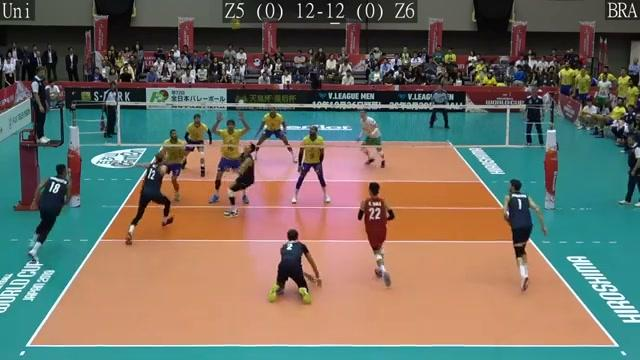ball: (230, 17, 242, 30)
